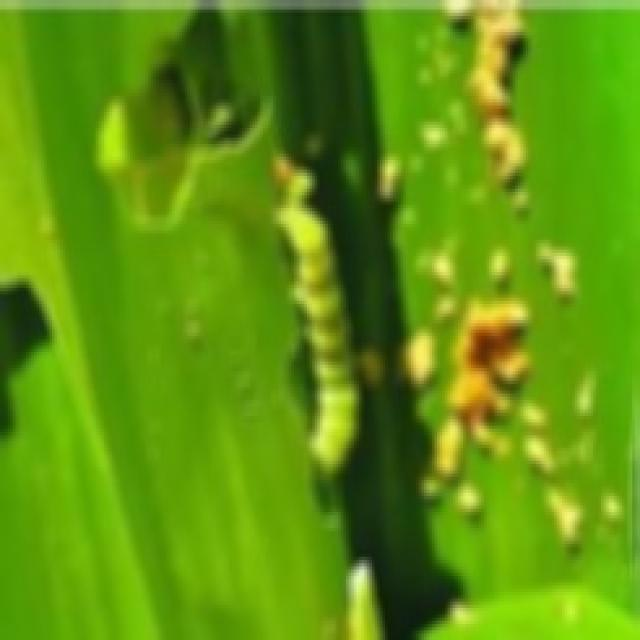army worm: (270, 182, 372, 492)
